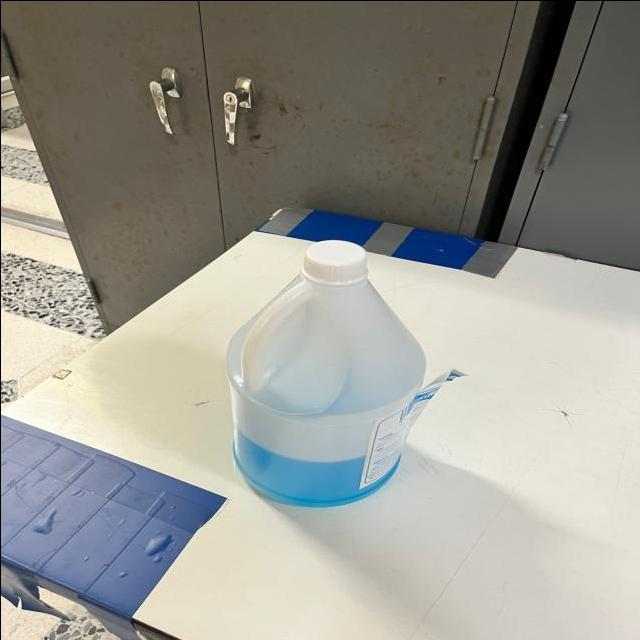HDPE Plastic: (216, 240, 427, 512)
